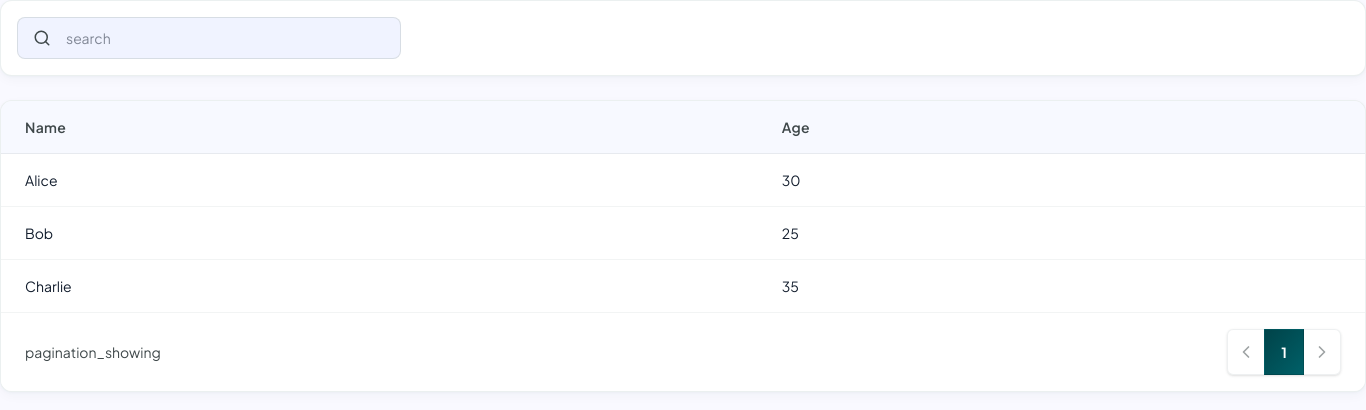
DataTable › searches data
Type "Bob" into the search field with placeholder "search" at (209, 38), box left=17, top=17, right=401, bottom=59
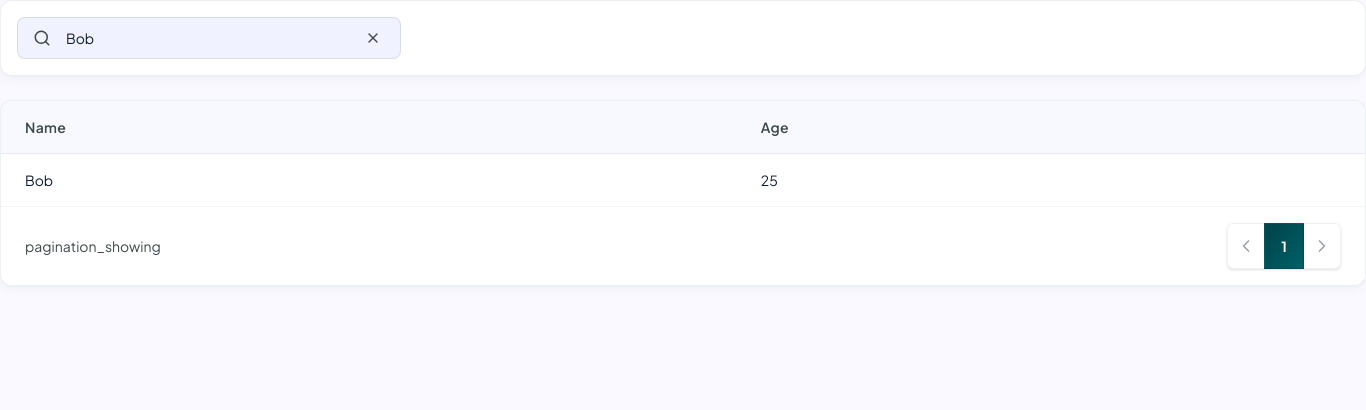
Check: the text "Bob" is shown, box left=1, top=154, right=737, bottom=206
Check: the text "Alice" is gone
Check: the text "Charlie" is gone
